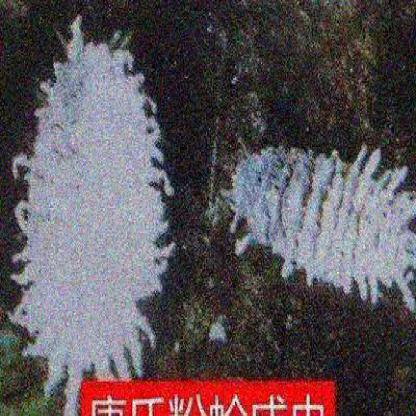mealy bug: (19, 23, 173, 408), (224, 139, 413, 300)
